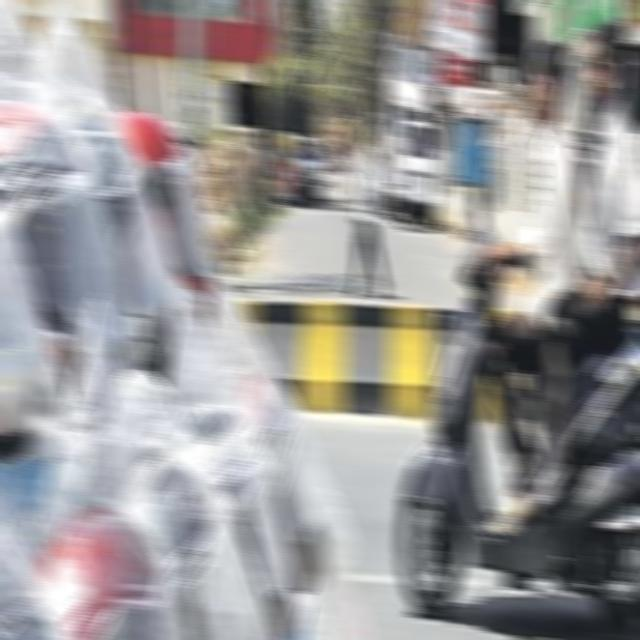Without Helmet: (525, 31, 569, 127)
